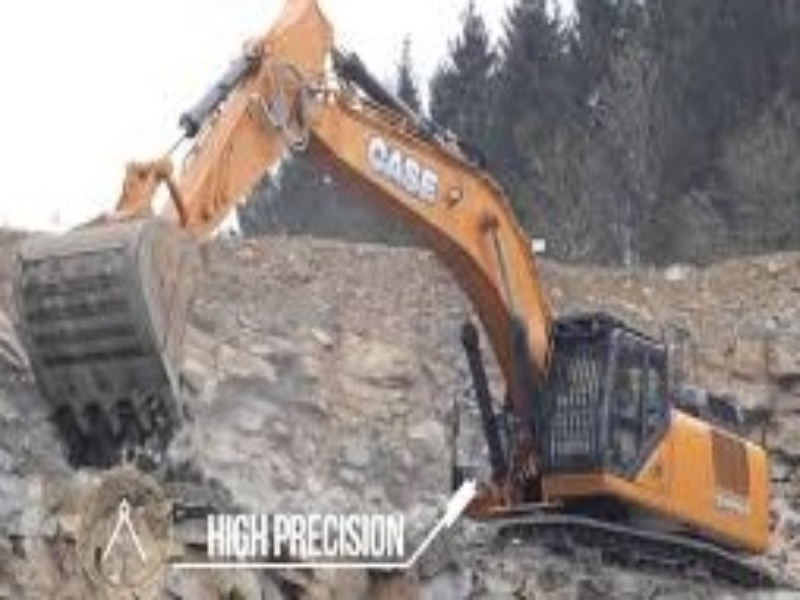wajueji: (439, 247, 779, 563)
